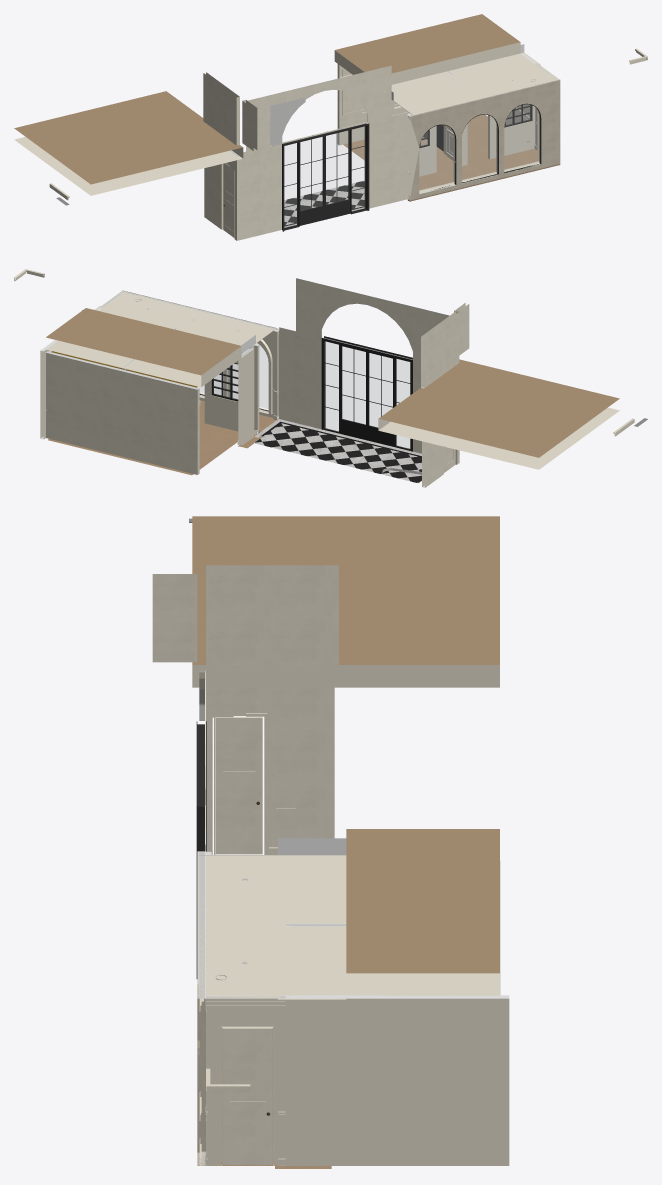
Rendered from office-hall-04c27e525af8.glb.
The picture shows the model from 3 angles, top to bottom: view 1: azimuth 30°, elevation 25°; view 2: azimuth 150°, elevation 25°; view 3: azimuth 270°, elevation 25°; orthographic projection. The views are drawn at different scales.
Visible parts, largest first — view 1: office-hall-look-2575515a05775d9e, office-hall-look-698abdfdc6fb970d, office-hall-look-d5a4a1b5d3594c04, office-hall-c9e78b9ec1bb39cd, office-hall-look-34525a54e63b733b, office-hall-dbd60ee5c3733ed6, office-hall-38561c12898e4d43, office-hall-c02a36d0521470a9, office-hall-5cbcc744e6f960f3, office-hall-look-746250f96522f643, office-hall-look-dbd60ee5c3733ed6, office-hall-c374268555806af8 (+11 smaller); view 2: office-hall-look-2575515a05775d9e, office-hall-look-19647d6da46c2b80, office-hall-look-698abdfdc6fb970d, office-hall-look-d5a4a1b5d3594c04, office-hall-look-c4ac463b6a960119, office-hall-look-34525a54e63b733b, office-hall-dbd60ee5c3733ed6, office-hall-look-746250f96522f643, office-hall-look-6a051330000fbca1, office-hall-a822d30aa9e2c55a, office-hall-look-3b0077416469e01b, office-hall-c9e78b9ec1bb39cd (+11 smaller); view 3: office-hall-look-2575515a05775d9e, office-hall-look-6a1144f4e43410bb, office-hall-look-746250f96522f643, office-hall-look-85f0fd939e0fcc78, office-hall-dbd60ee5c3733ed6, office-hall-look-dbd60ee5c3733ed6, office-hall-cf6d22c5317ced0b, office-hall-look-3322bc58bedf5620, office-hall-68d06b361ac47823, office-hall-look-5e296beffb47d853, office-hall-c9e78b9ec1bb39cd, office-hall-look-698abdfdc6fb970d.
Part boxes in pixels (x1=…): office-hall-look-2575515a05775d9e: x1=14, y1=14, x2=520, y2=195; office-hall-look-698abdfdc6fb970d: x1=282, y1=123, x2=369, y2=231; office-hall-look-d5a4a1b5d3594c04: x1=236, y1=112, x2=407, y2=240; office-hall-c9e78b9ec1bb39cd: x1=407, y1=82, x2=545, y2=200; office-hall-look-34525a54e63b733b: x1=246, y1=65, x2=391, y2=151; office-hall-dbd60ee5c3733ed6: x1=392, y1=63, x2=559, y2=115; office-hall-38561c12898e4d43: x1=419, y1=125, x2=454, y2=191; office-hall-c02a36d0521470a9: x1=462, y1=115, x2=497, y2=180; office-hall-5cbcc744e6f960f3: x1=504, y1=104, x2=539, y2=170; office-hall-look-746250f96522f643: x1=203, y1=72, x2=239, y2=145; office-hall-look-dbd60ee5c3733ed6: x1=391, y1=44, x2=540, y2=100; office-hall-c374268555806af8: x1=407, y1=148, x2=560, y2=201; office-hall-look-2575515a05775d9e: x1=46, y1=308, x2=619, y2=469; office-hall-look-19647d6da46c2b80: x1=46, y1=351, x2=199, y2=474; office-hall-look-698abdfdc6fb970d: x1=321, y1=336, x2=412, y2=451; office-hall-look-d5a4a1b5d3594c04: x1=279, y1=327, x2=459, y2=462; office-hall-look-c4ac463b6a960119: x1=254, y1=423, x2=421, y2=483; office-hall-look-34525a54e63b733b: x1=296, y1=278, x2=449, y2=361; office-hall-dbd60ee5c3733ed6: x1=99, y1=290, x2=276, y2=346; office-hall-look-746250f96522f643: x1=421, y1=311, x2=459, y2=388; office-hall-look-6a051330000fbca1: x1=238, y1=347, x2=253, y2=445; office-hall-a822d30aa9e2c55a: x1=179, y1=327, x2=254, y2=431; office-hall-look-3b0077416469e01b: x1=48, y1=432, x2=237, y2=475; office-hall-c9e78b9ec1bb39cd: x1=136, y1=294, x2=279, y2=418; office-hall-look-2575515a05775d9e: x1=192, y1=516, x2=499, y2=995; office-hall-look-6a1144f4e43410bb: x1=285, y1=995, x2=509, y2=1165; office-hall-look-746250f96522f643: x1=206, y1=565, x2=338, y2=664; office-hall-look-85f0fd939e0fcc78: x1=206, y1=687, x2=334, y2=854; office-hall-dbd60ee5c3733ed6: x1=198, y1=855, x2=292, y2=998; office-hall-look-dbd60ee5c3733ed6: x1=278, y1=838, x2=346, y2=999; office-hall-cf6d22c5317ced0b: x1=222, y1=1028, x2=272, y2=1164; office-hall-look-3322bc58bedf5620: x1=215, y1=716, x2=262, y2=854; office-hall-68d06b361ac47823: x1=206, y1=995, x2=285, y2=1165; office-hall-look-5e296beffb47d853: x1=152, y1=574, x2=197, y2=662; office-hall-c9e78b9ec1bb39cd: x1=197, y1=851, x2=205, y2=1151; office-hall-look-698abdfdc6fb970d: x1=196, y1=721, x2=206, y2=978.
Bounding box in the file's own units: 21.96 × 5.17 × 5.78.
Materials: 28 (7 with a texture image).
